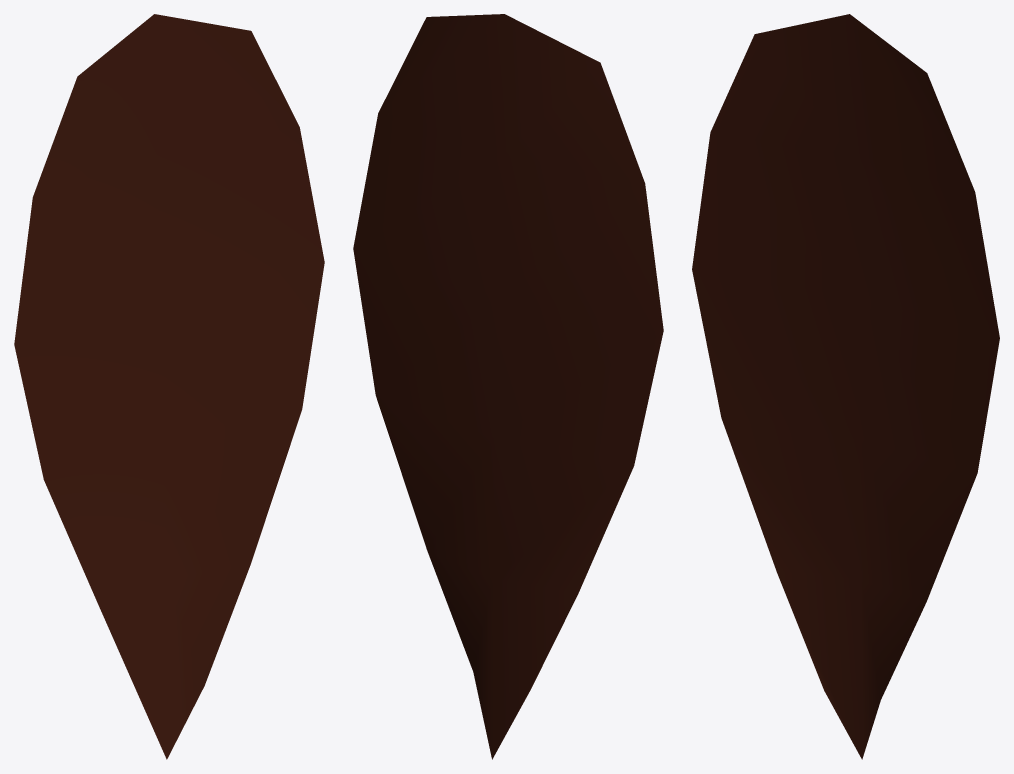
The model's file is hen_feather_flight_tertiary_036.obj.
3 renders of one model, left to right at view 1: azimuth 30°, elevation 25°; view 2: azimuth 150°, elevation 25°; view 3: azimuth 330°, elevation 25°, orthographic.
Visible parts, largest first — view 1: feather_flight_tertiary_036; view 2: feather_flight_tertiary_036; view 3: feather_flight_tertiary_036.
Part boxes in pixels (left/top/right/bottom): feather_flight_tertiary_036: left=14, top=14, right=324, bottom=759; feather_flight_tertiary_036: left=353, top=14, right=663, bottom=759; feather_flight_tertiary_036: left=692, top=14, right=999, bottom=759.
Size of the model in its own units: 0.00994 by 0.0229 by 0.000525.
